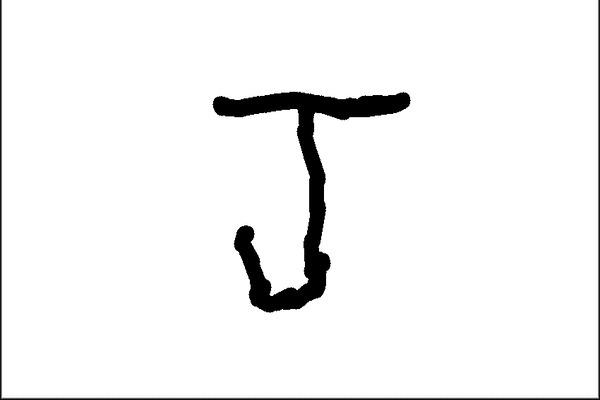J: (203, 82, 418, 314)
